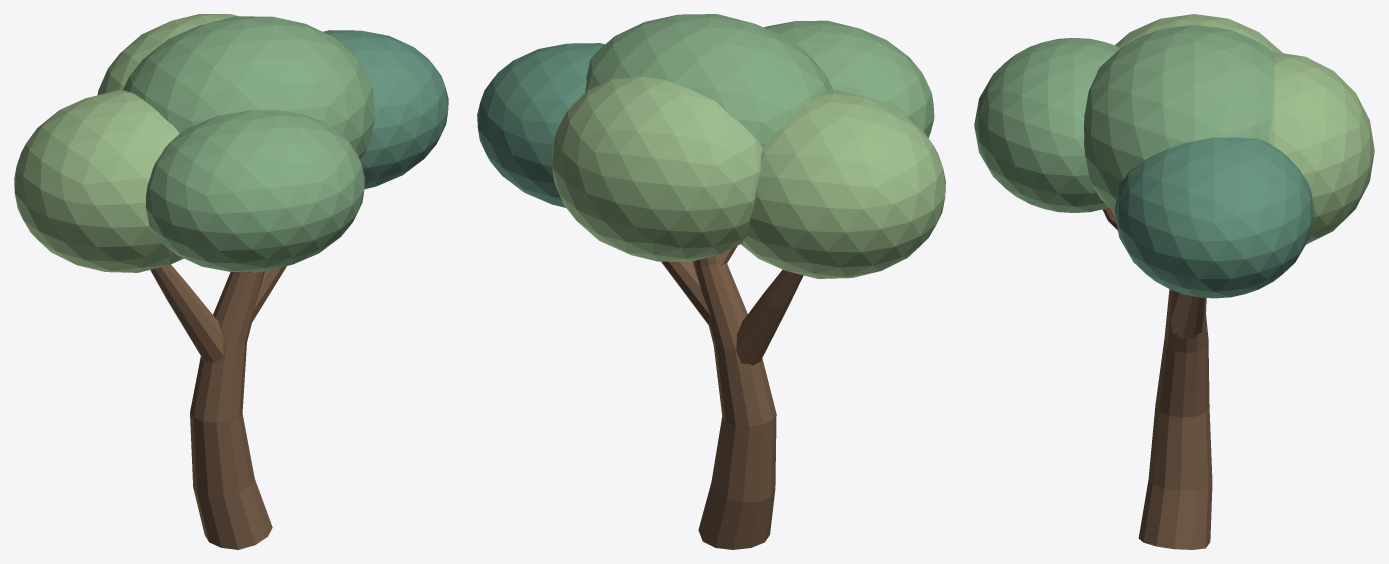
The model's file is Tree_Landmark_Blockout.glb.
3 renders of one model, left to right at view 1: azimuth 30°, elevation 25°; view 2: azimuth 150°, elevation 25°; view 3: azimuth 270°, elevation 25°, orthographic. The views are drawn at different scales.
Parts seen in each view (by area): view 1: Tree_Landmark_Blockout.001; view 2: Tree_Landmark_Blockout.001; view 3: Tree_Landmark_Blockout.001.
Part boxes in pixels (x1,y1,x2,y2): Tree_Landmark_Blockout.001: [14, 14, 448, 549]; Tree_Landmark_Blockout.001: [477, 14, 945, 549]; Tree_Landmark_Blockout.001: [974, 14, 1374, 549].
Size of the model in its own units: 25 by 28 by 20.
